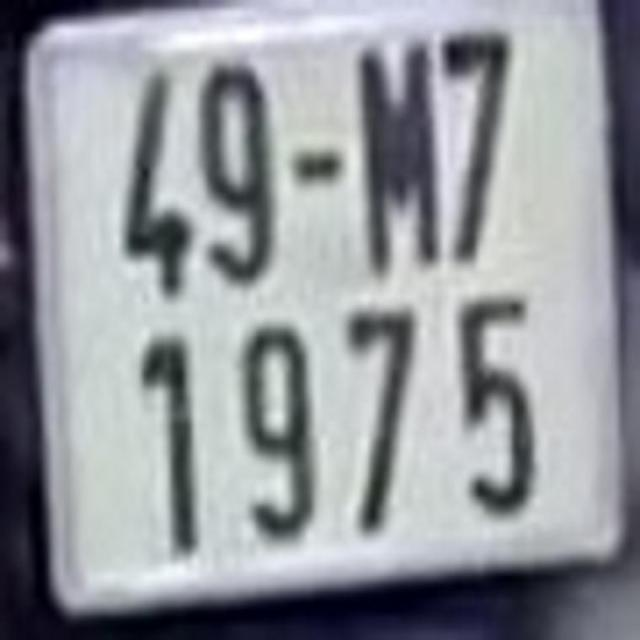1: (134, 330, 214, 556)
4: (120, 73, 196, 305)
5: (453, 290, 541, 520)
7: (338, 302, 418, 532), (441, 23, 513, 266)
9: (236, 321, 318, 538), (200, 66, 273, 293)
M: (354, 36, 442, 274)
